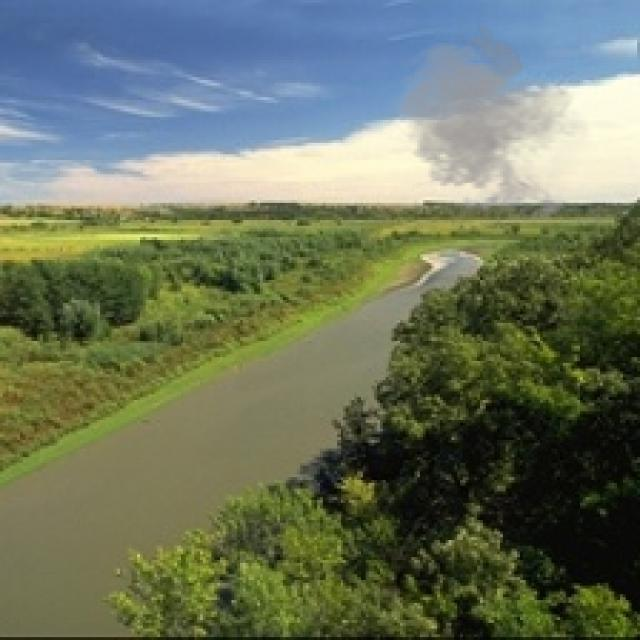Smoke: (388, 23, 594, 223)
